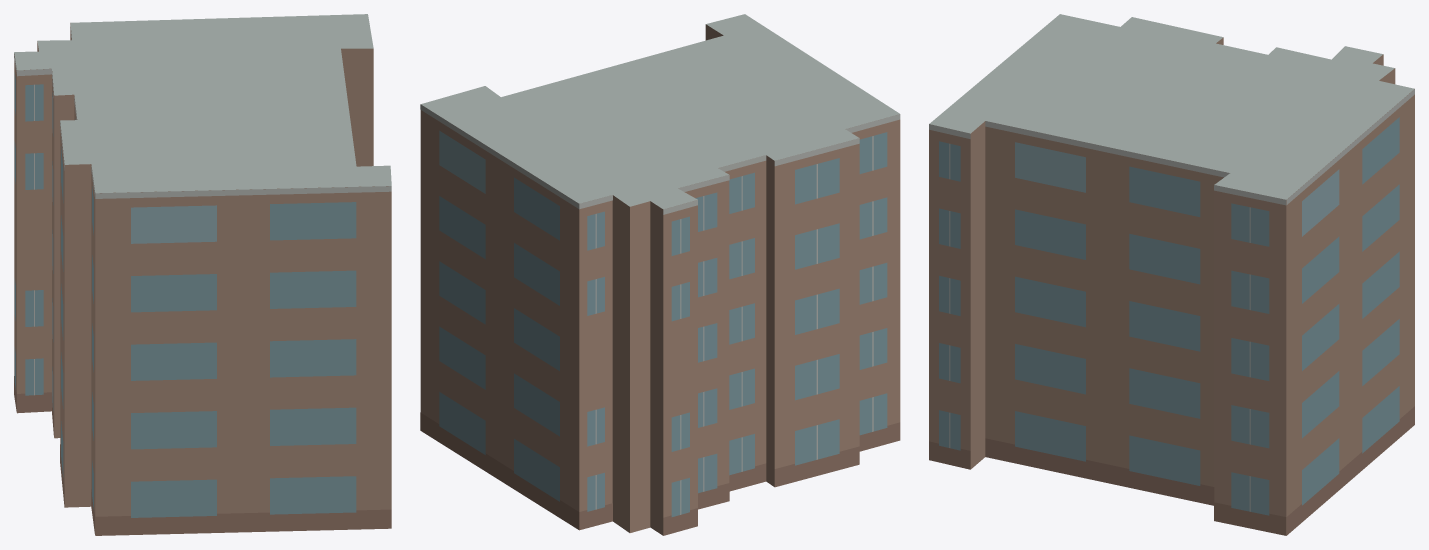
Rendered from survey-upis-33015793.glb.
The picture shows the model from 3 angles, left to right: view 1: azimuth 30°, elevation 25°; view 2: azimuth 150°, elevation 25°; view 3: azimuth 270°, elevation 25°; orthographic projection. The views are drawn at different scales.
Visible parts, largest first — view 1: survey-upis-33015793.tmp; view 2: survey-upis-33015793.tmp; view 3: survey-upis-33015793.tmp.
Boxes of the visible parts, x1,y1,x2,y2 form: survey-upis-33015793.tmp: [14, 14, 391, 535]; survey-upis-33015793.tmp: [420, 14, 900, 535]; survey-upis-33015793.tmp: [929, 14, 1414, 535].
Size of the model in its own units: 17.2 by 14.5 by 19.
